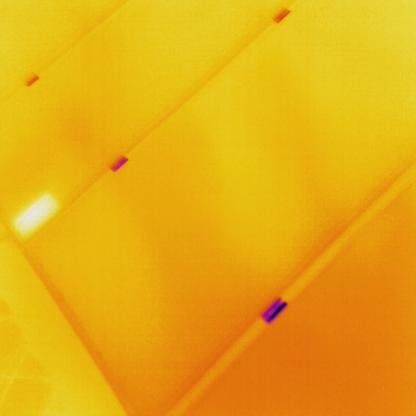hotspot: (6, 190, 66, 245)
